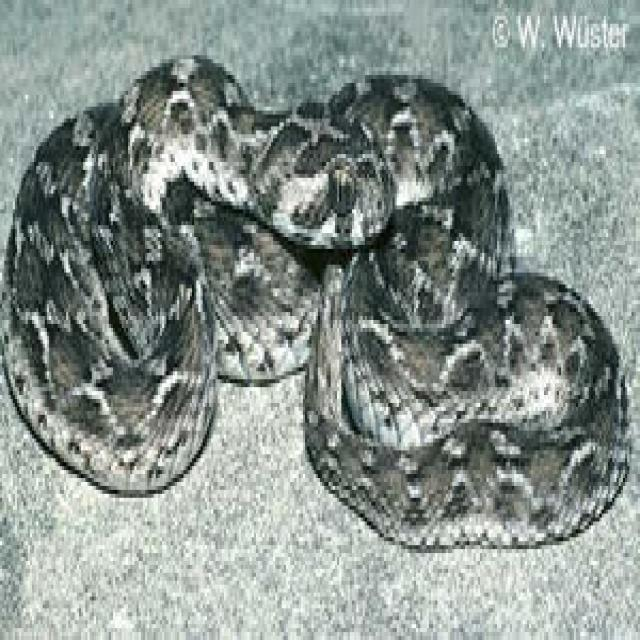Snake: (0, 51, 631, 549)
